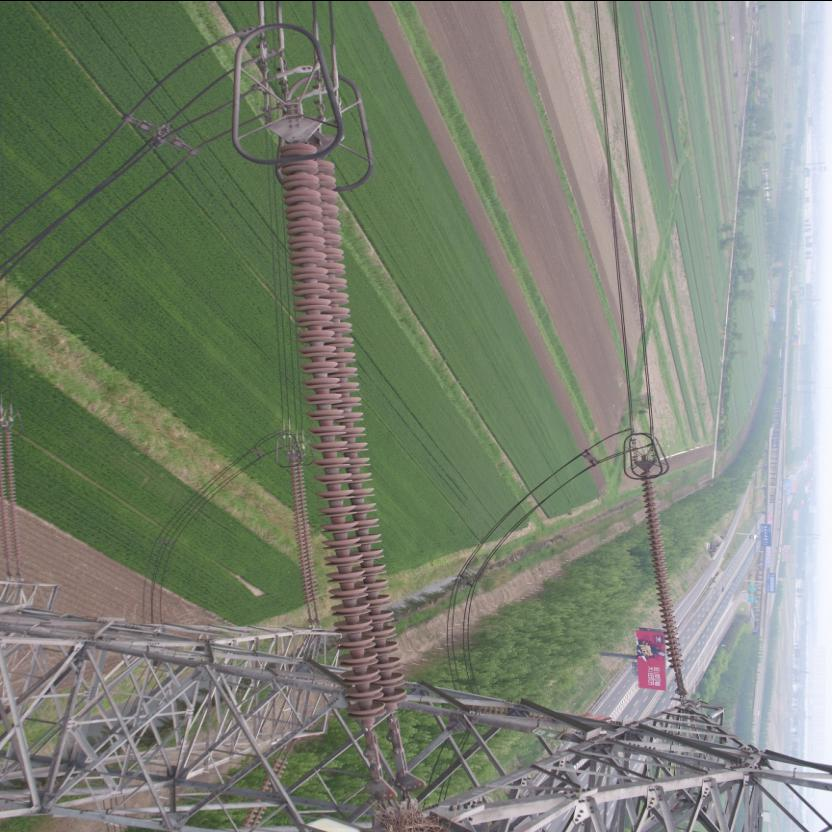insulator: (274, 132, 412, 754), (638, 468, 687, 668)
